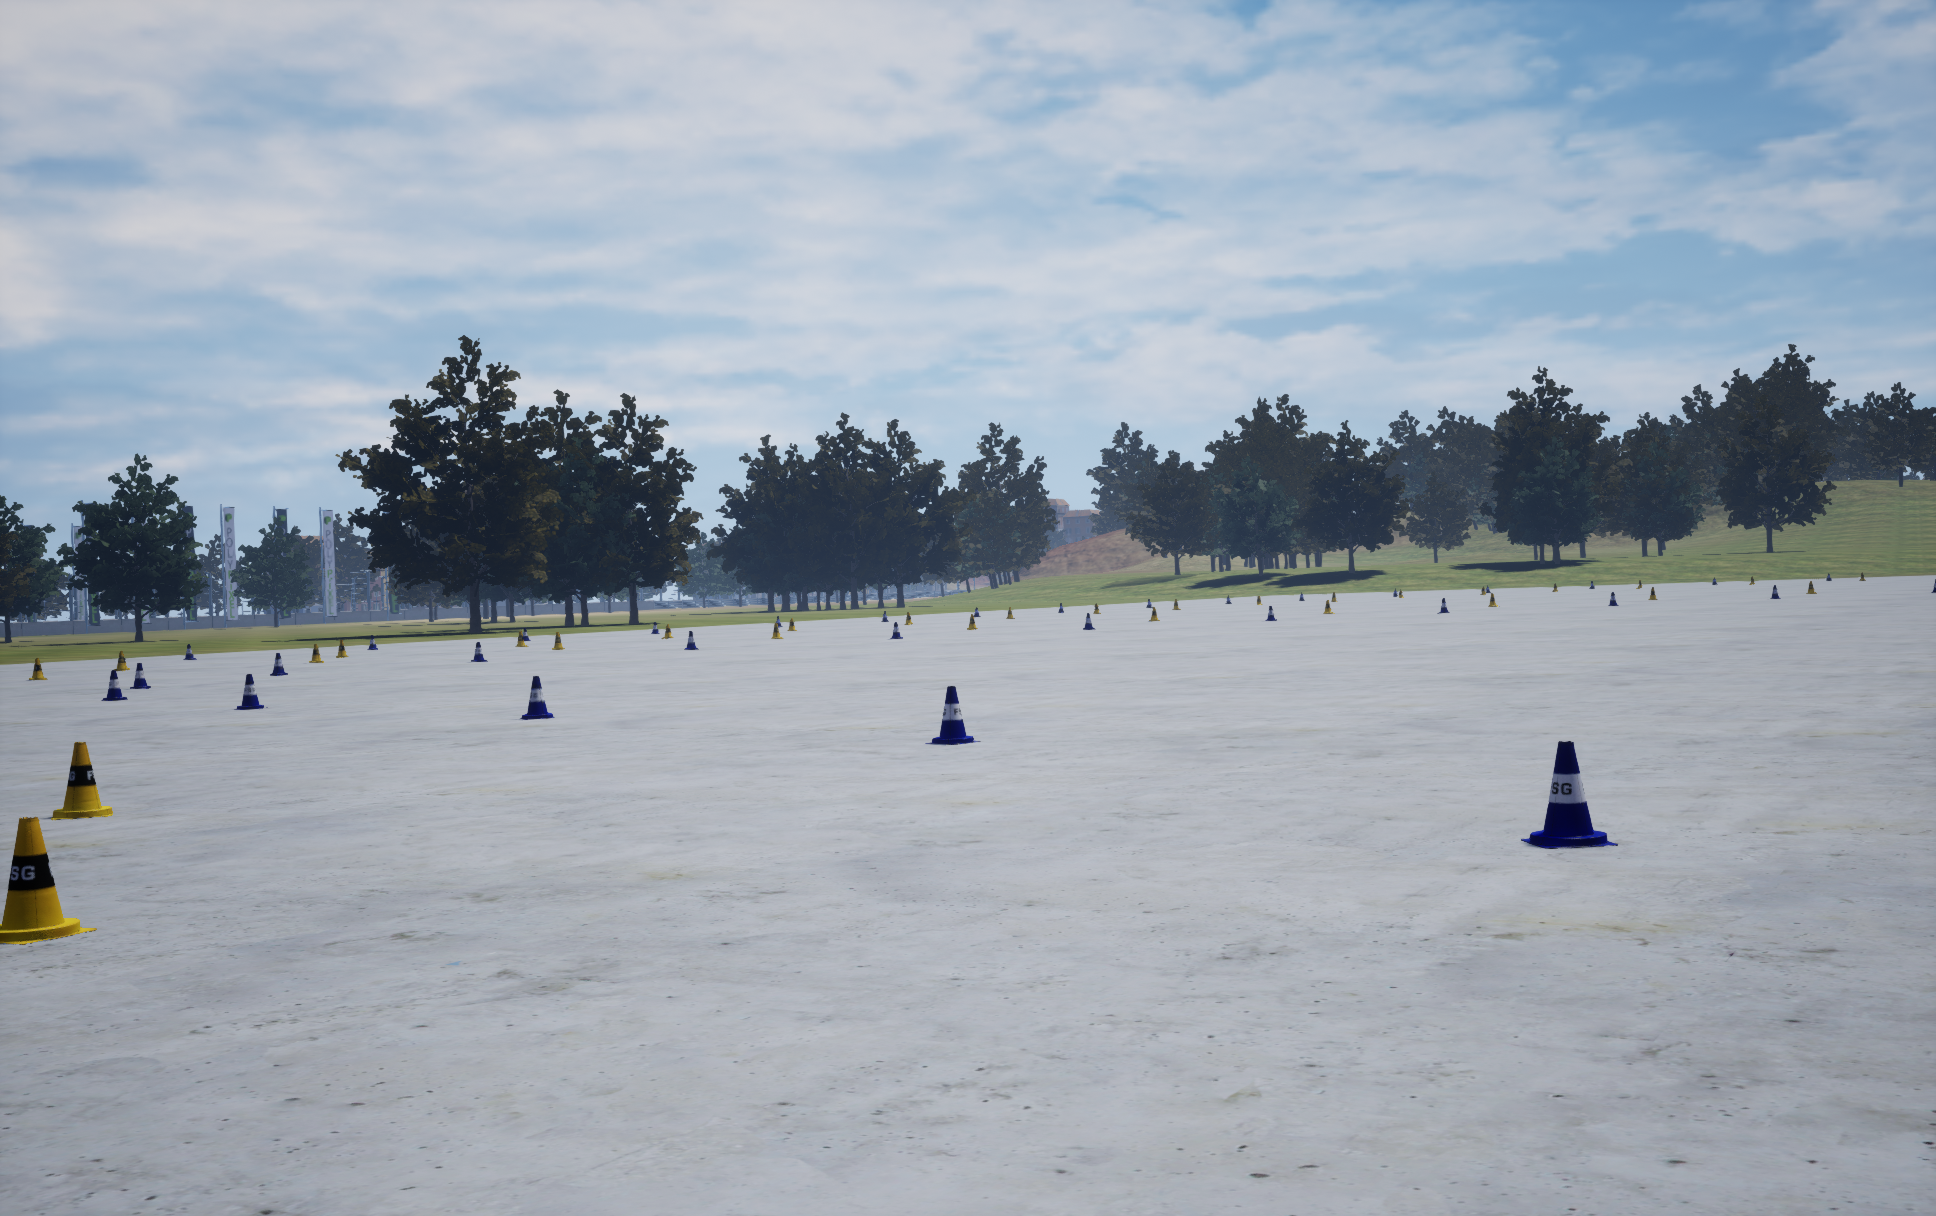blue: (0, 817, 97, 944), (50, 742, 112, 820), (29, 658, 48, 679), (113, 651, 129, 670), (310, 644, 324, 663)
yellow: (1521, 741, 1617, 848), (925, 686, 981, 744), (520, 677, 553, 719), (234, 674, 268, 709), (101, 670, 127, 700), (130, 663, 150, 688), (270, 653, 287, 675), (471, 642, 488, 661), (684, 630, 698, 649)
